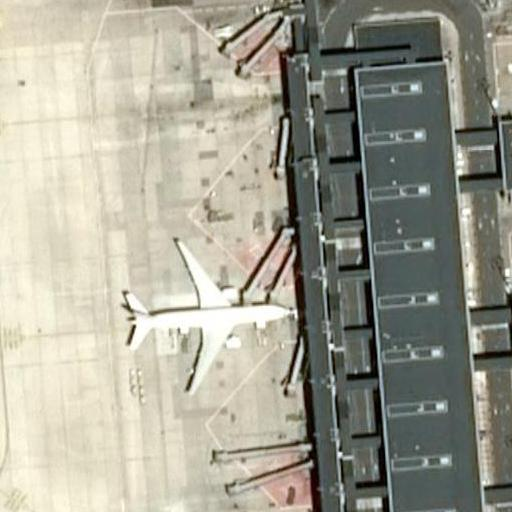Aircraft: (108, 231, 284, 384)
